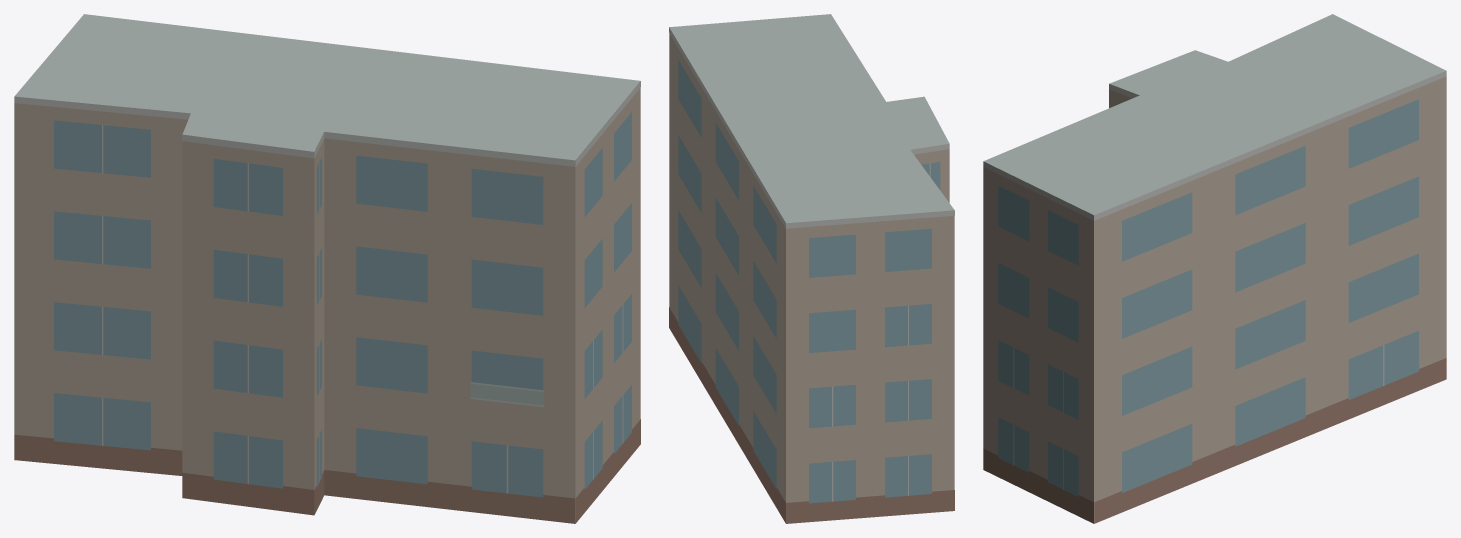
File: survey-upis-32901316.glb
3 renders of one model, left to right at view 1: azimuth 30°, elevation 25°; view 2: azimuth 150°, elevation 25°; view 3: azimuth 270°, elevation 25°, orthographic. The views are drawn at different scales.
Visible parts, largest first — view 1: survey-upis-32901316.tmp; view 2: survey-upis-32901316.tmp; view 3: survey-upis-32901316.tmp.
Boxes of the visible parts, box(x1,y1,x2,y2) form: survey-upis-32901316.tmp: box(14, 14, 640, 523); survey-upis-32901316.tmp: box(669, 14, 954, 523); survey-upis-32901316.tmp: box(983, 14, 1446, 523).
Size of the model in its own units: 18.89 by 13.5 by 18.37.
